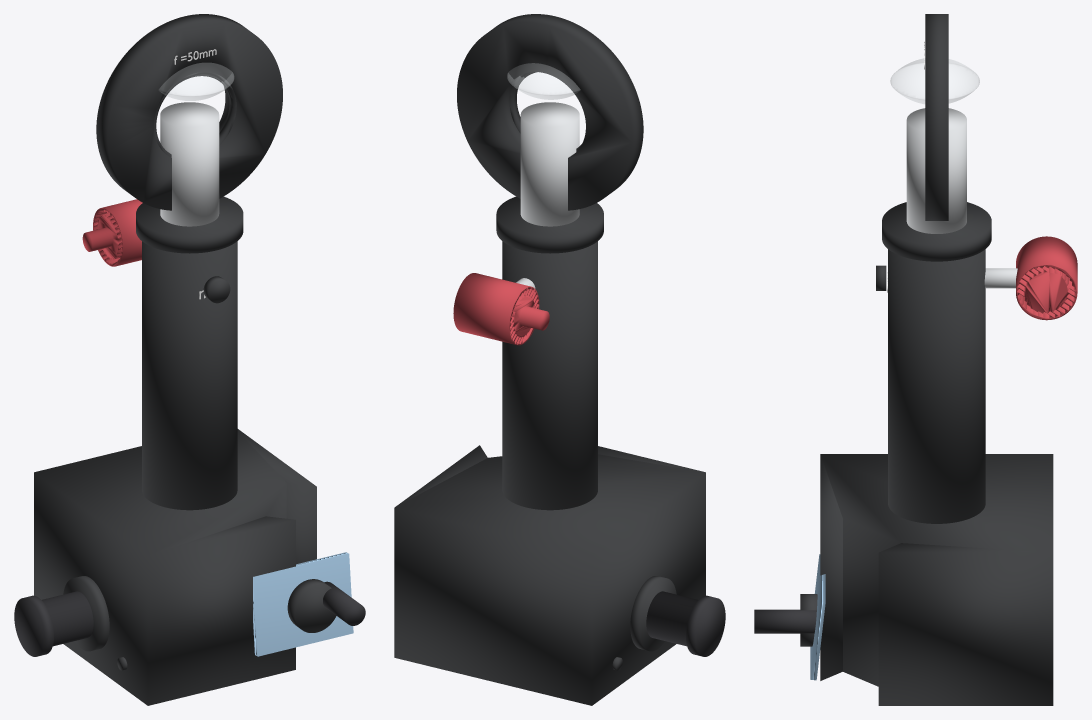
Rendered from condenser.glb.
3 renders of one model, left to right at view 1: azimuth 30°, elevation 25°; view 2: azimuth 150°, elevation 25°; view 3: azimuth 270°, elevation 25°, orthographic. The views are drawn at different scales.
Parts seen in each view (by area): view 1: Condenser_Base, Condenser_Post, Condenser_Disc, Condenser_Rod, FrontBluePlate, SideAdjustmentKnob, Condenser_TopCollar, LockKnob, Condenser_Lens, FrontKnobBase, SideAdjustmentPlate, FrontHandle (+2 smaller); view 2: Condenser_Base, Condenser_Post, Condenser_Disc, Condenser_Rod, LockKnob, SideAdjustmentKnob, Condenser_TopCollar, Condenser_Lens, SideAdjustmentPlate; view 3: Condenser_Base, Condenser_Post, Condenser_Disc, Condenser_Rod, LockKnob, Condenser_TopCollar, Condenser_Lens, FrontHandle, FrontBluePlate, LockShaft.
Boxes of the visible parts, x1=… form: Condenser_Base: x1=34, y1=429, x2=316, y2=705; Condenser_Post: x1=142, y1=241, x2=237, y2=510; Condenser_Disc: x1=96, y1=14, x2=282, y2=210; Condenser_Rod: x1=160, y1=102, x2=219, y2=226; FrontBluePlate: x1=253, y1=552, x2=353, y2=656; SideAdjustmentKnob: x1=14, y1=591, x2=93, y2=656; Condenser_TopCollar: x1=136, y1=196, x2=243, y2=253; LockKnob: x1=82, y1=199, x2=142, y2=266; Condenser_Lens: x1=159, y1=63, x2=233, y2=100; FrontKnobBase: x1=287, y1=579, x2=336, y2=632; SideAdjustmentPlate: x1=63, y1=576, x2=109, y2=651; FrontHandle: x1=323, y1=581, x2=365, y2=625; Condenser_Base: x1=394, y1=445, x2=705, y2=705; Condenser_Post: x1=502, y1=241, x2=597, y2=510; Condenser_Disc: x1=457, y1=14, x2=643, y2=210; Condenser_Rod: x1=520, y1=102, x2=579, y2=226; LockKnob: x1=453, y1=273, x2=549, y2=345; SideAdjustmentKnob: x1=646, y1=591, x2=725, y2=656; Condenser_TopCollar: x1=496, y1=196, x2=603, y2=253; Condenser_Lens: x1=507, y1=63, x2=579, y2=99; SideAdjustmentPlate: x1=630, y1=576, x2=676, y2=651; Condenser_Base: x1=820, y1=454, x2=1053, y2=705; Condenser_Post: x1=888, y1=249, x2=985, y2=523; Condenser_Disc: x1=925, y1=14, x2=948, y2=220; Condenser_Rod: x1=906, y1=108, x2=966, y2=233; LockKnob: x1=1016, y1=236, x2=1077, y2=320; Condenser_TopCollar: x1=882, y1=202, x2=991, y2=261; Condenser_Lens: x1=890, y1=58, x2=979, y2=103; FrontHandle: x1=754, y1=609, x2=816, y2=633; FrontBluePlate: x1=810, y1=554, x2=825, y2=680; LockShaft: x1=984, y1=268, x2=1017, y2=288.
Size of the model in its own units: 0.0823 by 0.1857 by 0.0859.
